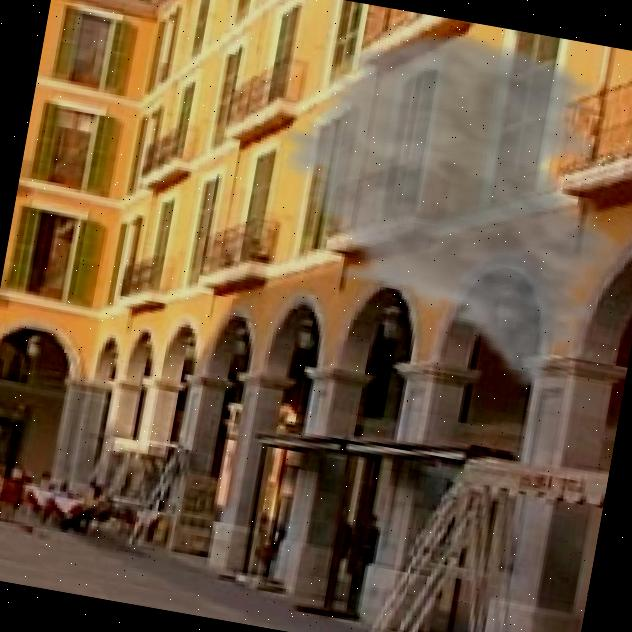smoke: (238, 0, 632, 404)
